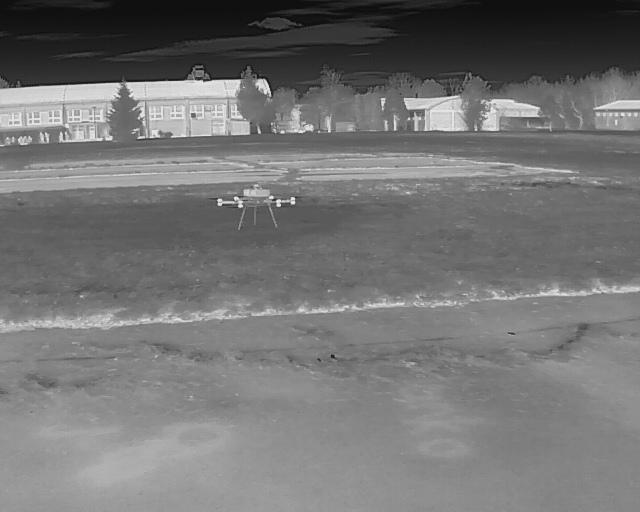drone: (212, 176, 299, 227)
